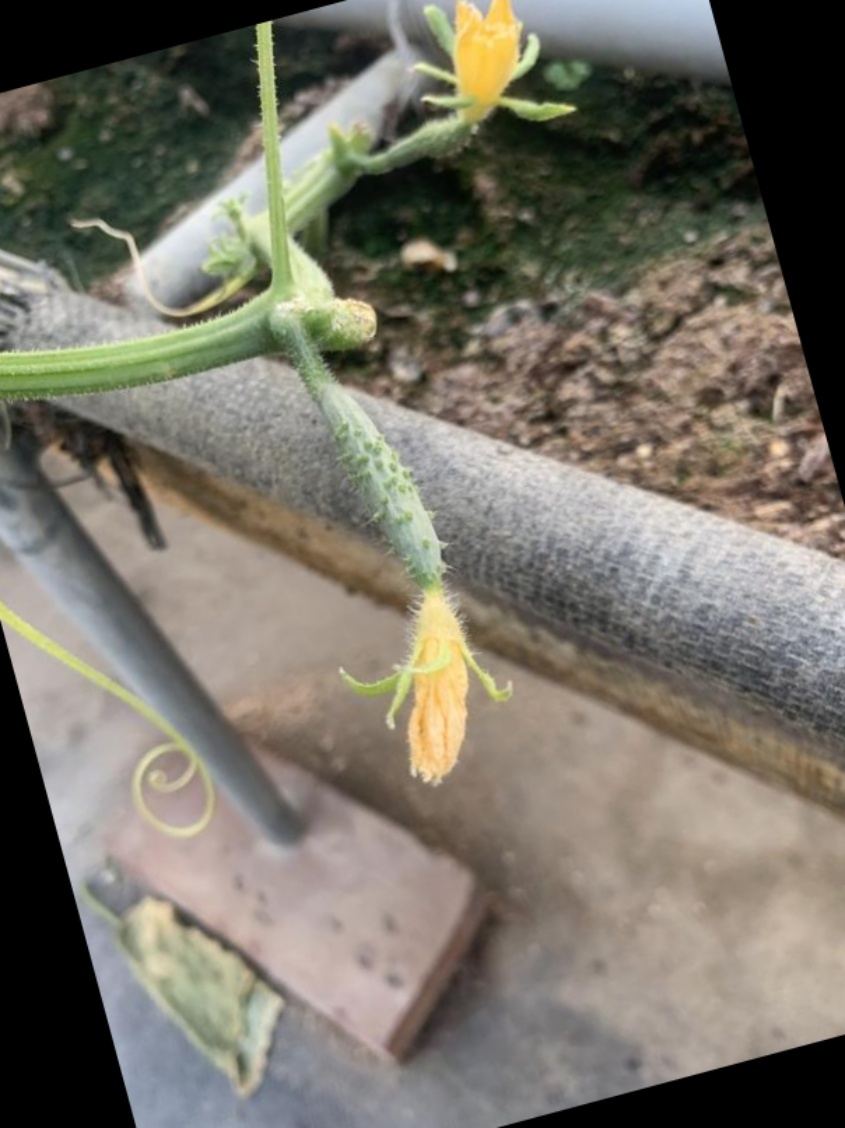bear: (369, 0, 570, 178)
